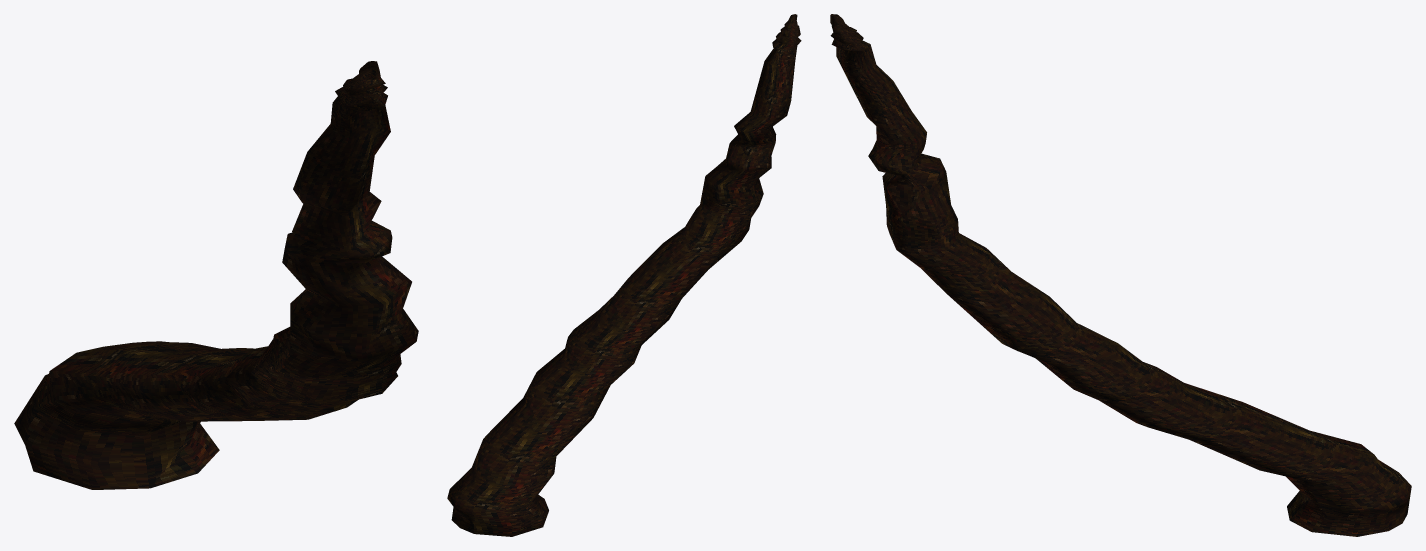
The model's file is Trunk.FBX.
The picture shows the model from 3 angles, left to right: view 1: azimuth 30°, elevation 25°; view 2: azimuth 150°, elevation 25°; view 3: azimuth 270°, elevation 25°; orthographic projection. The views are drawn at different scales.
Visible parts, largest first — view 1: Trunk; view 2: Trunk; view 3: Trunk.
Boxes of the visible parts, left/top/right/bottom form: Trunk: left=14, top=61, right=418, bottom=489; Trunk: left=447, top=14, right=801, bottom=536; Trunk: left=830, top=14, right=1411, bottom=536.
Bounding box in the file's own units: 0.0505 × 0.1245 × 0.1462.
Materials: 1 (1 with a texture image).
